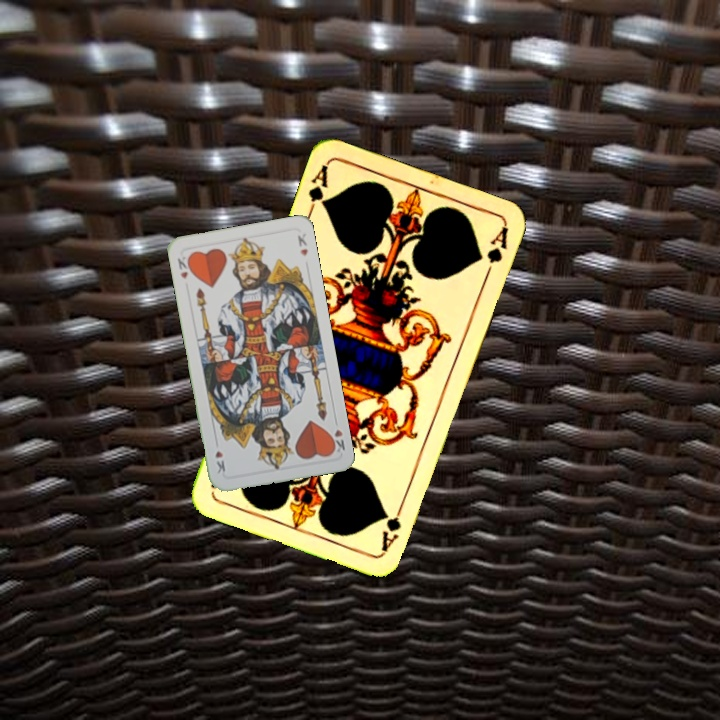GA: (377, 496, 407, 554), (303, 160, 331, 219)
HK: (326, 415, 348, 456), (173, 251, 194, 282)
